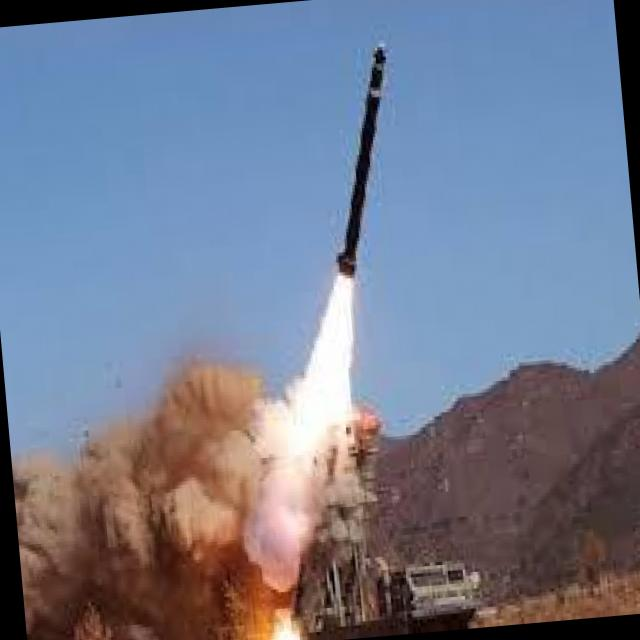rocket: (244, 41, 426, 422)
